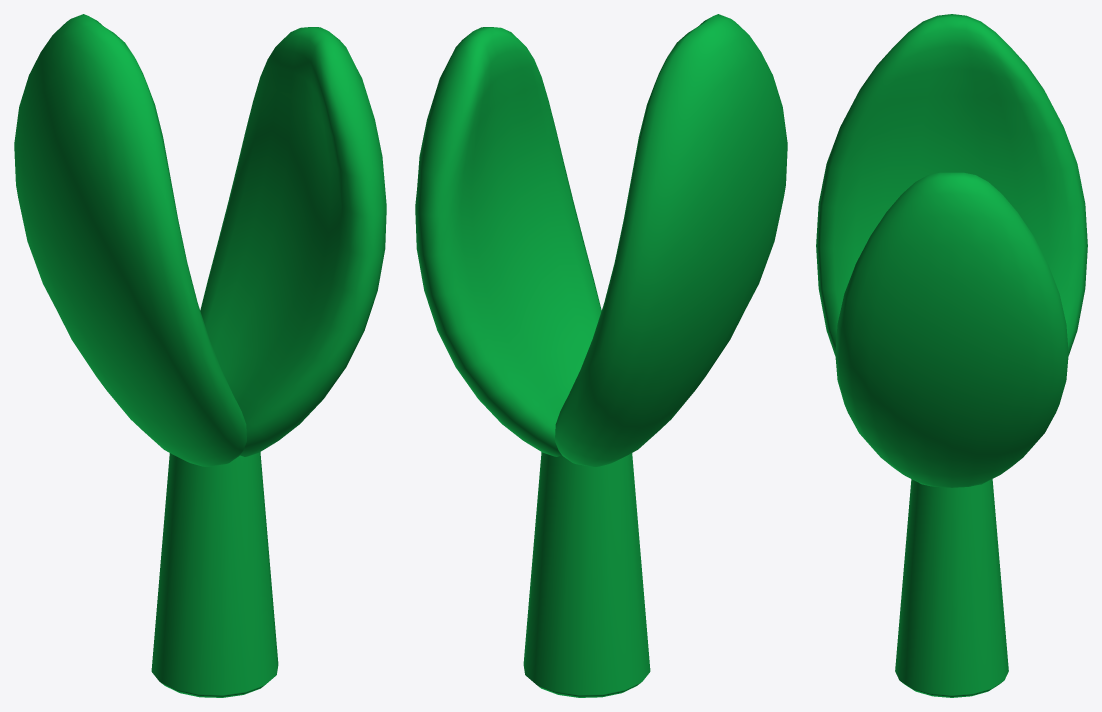
File: Farm_12_Sprout_1.glb
3 views of the same model, side by side, from view 1: azimuth 30°, elevation 25°; view 2: azimuth 150°, elevation 25°; view 3: azimuth 270°, elevation 25° (orthographic). The views are drawn at different scales.
Visible parts, largest first — view 1: Farm_12_Sprout_1; view 2: Farm_12_Sprout_1; view 3: Farm_12_Sprout_1.
Boxes of the visible parts, <box> form: Farm_12_Sprout_1: <box>14,14,386,697</box>; Farm_12_Sprout_1: <box>415,14,787,697</box>; Farm_12_Sprout_1: <box>816,14,1087,697</box>.
Bounding box in the file's own units: 0.1202 × 0.255 × 0.1036.
Materials: 1 (1 with a texture image).
